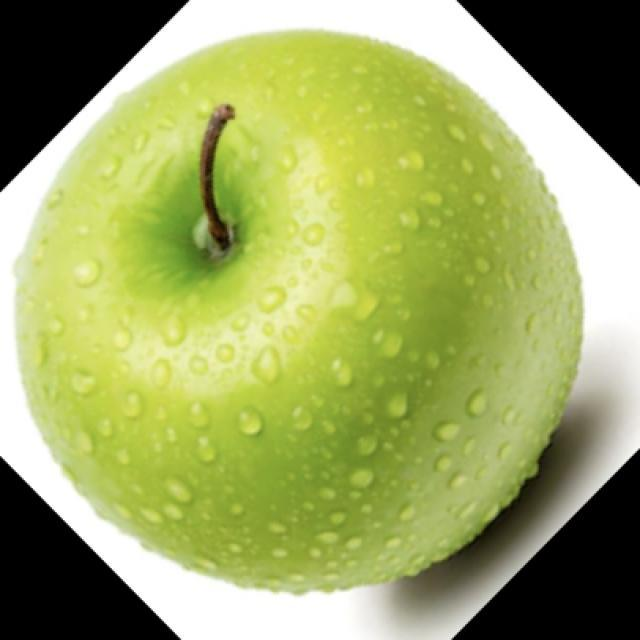Fresh Apple: (61, 43, 592, 595)
